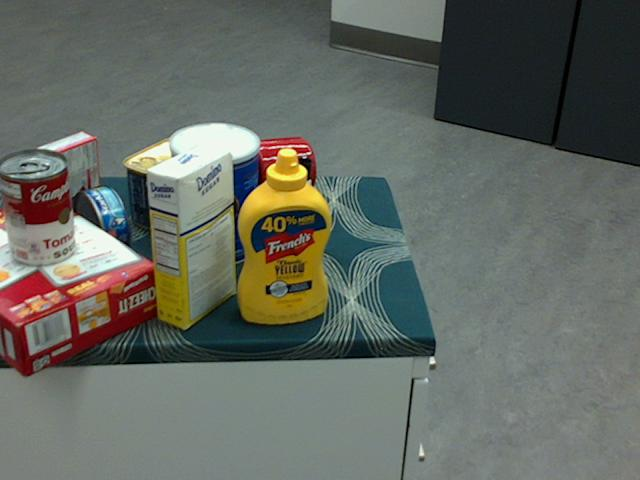cracker_box: (0, 192, 160, 376)
gelatin_box: (29, 131, 99, 208)
large_marker: (296, 155, 311, 248)
master_chef_can: (166, 122, 257, 267)
mug: (233, 135, 314, 207)
mustard_bottle: (237, 147, 332, 323)
potted_meat_can: (121, 136, 198, 230)
sugar_box: (145, 142, 236, 328)
tomato_soup_can: (0, 149, 75, 266)
tuna_fish_can: (71, 186, 128, 263)
